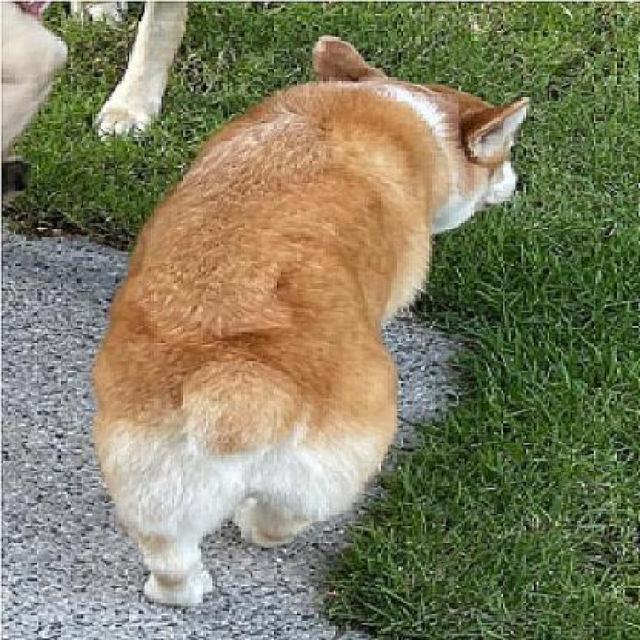Dog: (89, 32, 534, 605)
